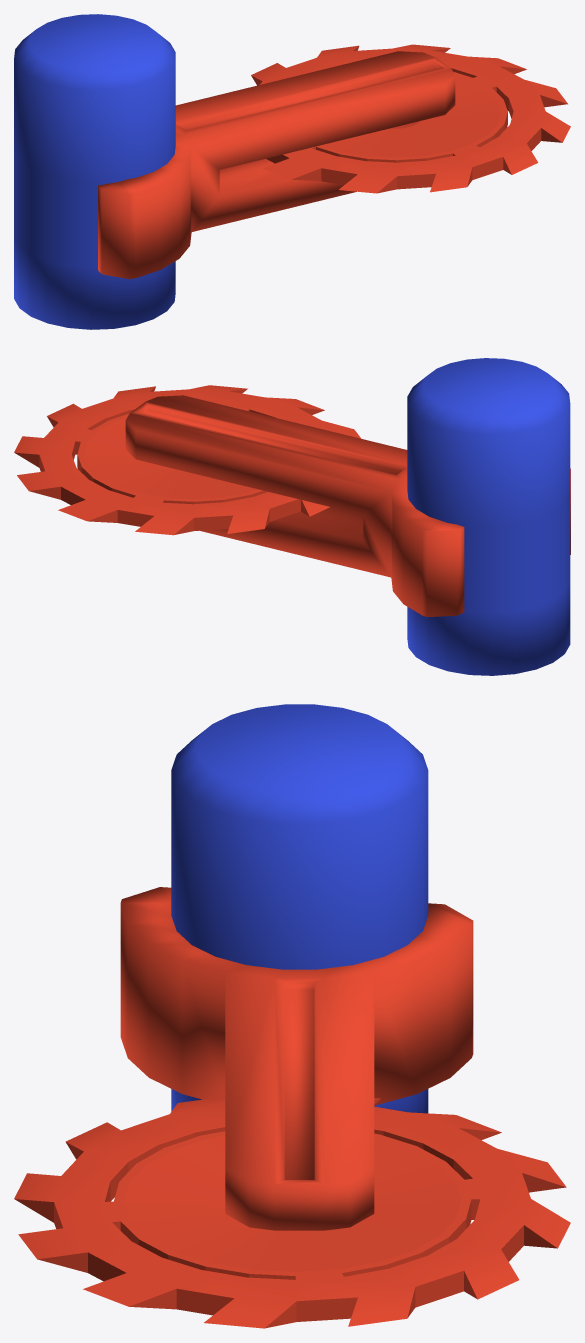
File: keser.fbx
3 views of the same model, one above another, from view 1: azimuth 30°, elevation 25°; view 2: azimuth 150°, elevation 25°; view 3: azimuth 270°, elevation 25° (orthographic). The views are drawn at different scales.
Visible parts, largest first — view 1: Cylinder.002, Cylinder.003; view 2: Cylinder.002, Cylinder.003; view 3: Cylinder.002, Cylinder.003.
Part boxes in pixels (<box>): Cylinder.002: <box>98,44,570,279</box>; Cylinder.003: <box>14,14,175,329</box>; Cylinder.002: <box>14,385,570,617</box>; Cylinder.003: <box>407,358,570,675</box>; Cylinder.002: <box>14,887,570,1328</box>; Cylinder.003: <box>171,704,428,1113</box>.
Size of the model in its own units: 240 by 112 by 141.
